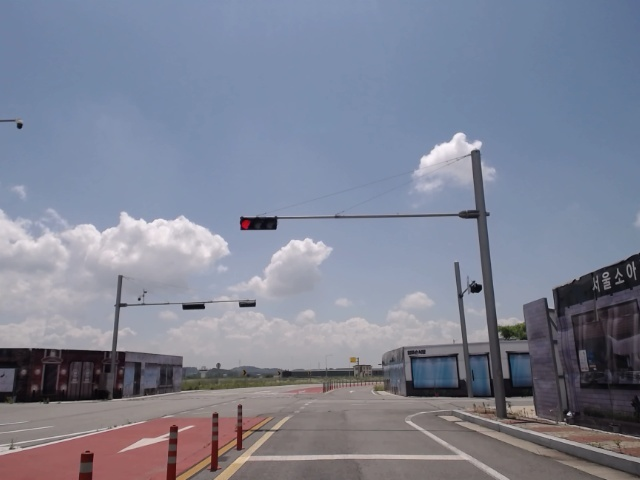red_3: (239, 215, 278, 231)
